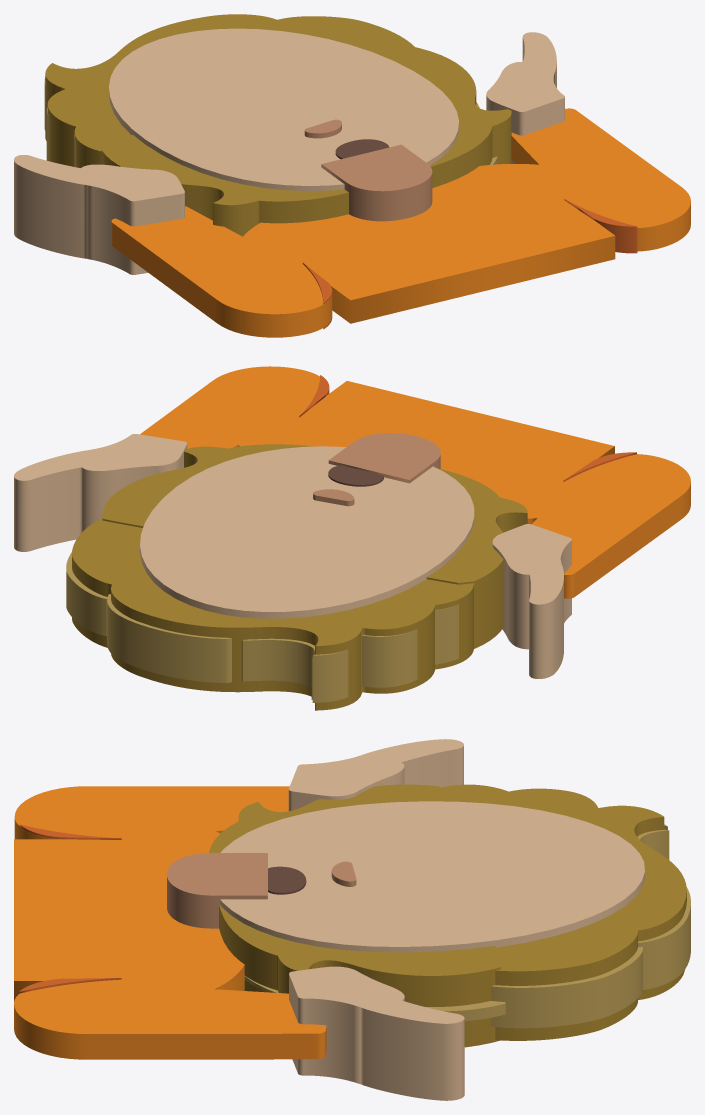
Rendered from emoji_u1f937_1f3fc.glb.
3 views of the same model, one above another, from view 1: azimuth 30°, elevation 25°; view 2: azimuth 150°, elevation 25°; view 3: azimuth 270°, elevation 25° (orthographic). The views are drawn at different scales.
Parts seen in each view (by area): view 1: emoji_u1f937_1f3fc; view 2: emoji_u1f937_1f3fc; view 3: emoji_u1f937_1f3fc.
Boxes of the visible parts, box(x1,y1,x2,y2) form: emoji_u1f937_1f3fc: box(14, 14, 690, 337); emoji_u1f937_1f3fc: box(14, 366, 690, 710); emoji_u1f937_1f3fc: box(14, 739, 690, 1100).
Size of the model in its own units: 0.0331 by 0.0052 by 0.0335.
